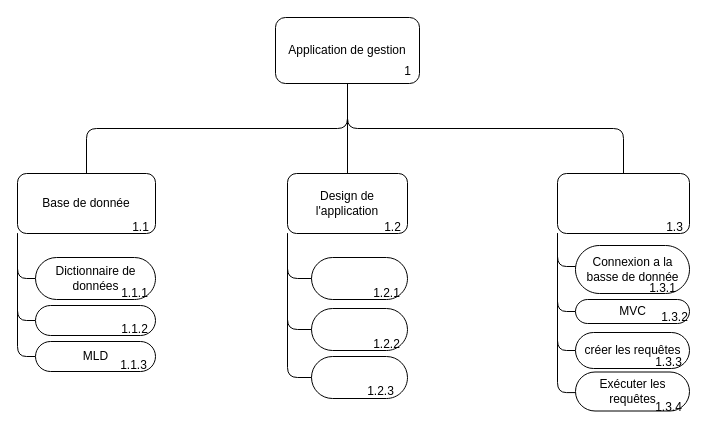
The diagram is 713 pixels wide and 437 high, and some of its shapes have lost their labels. The shapes that lost their labels are listed below. From the top down, each one's box as (x1, y1, x2, y2) in pixels, then its label:
(556, 172, 690, 234): Développement
(310, 256, 408, 300): Ergonomie
(34, 304, 156, 336): MCD
(310, 308, 408, 350): Fonctionnalités
(310, 356, 408, 398): Apparence
